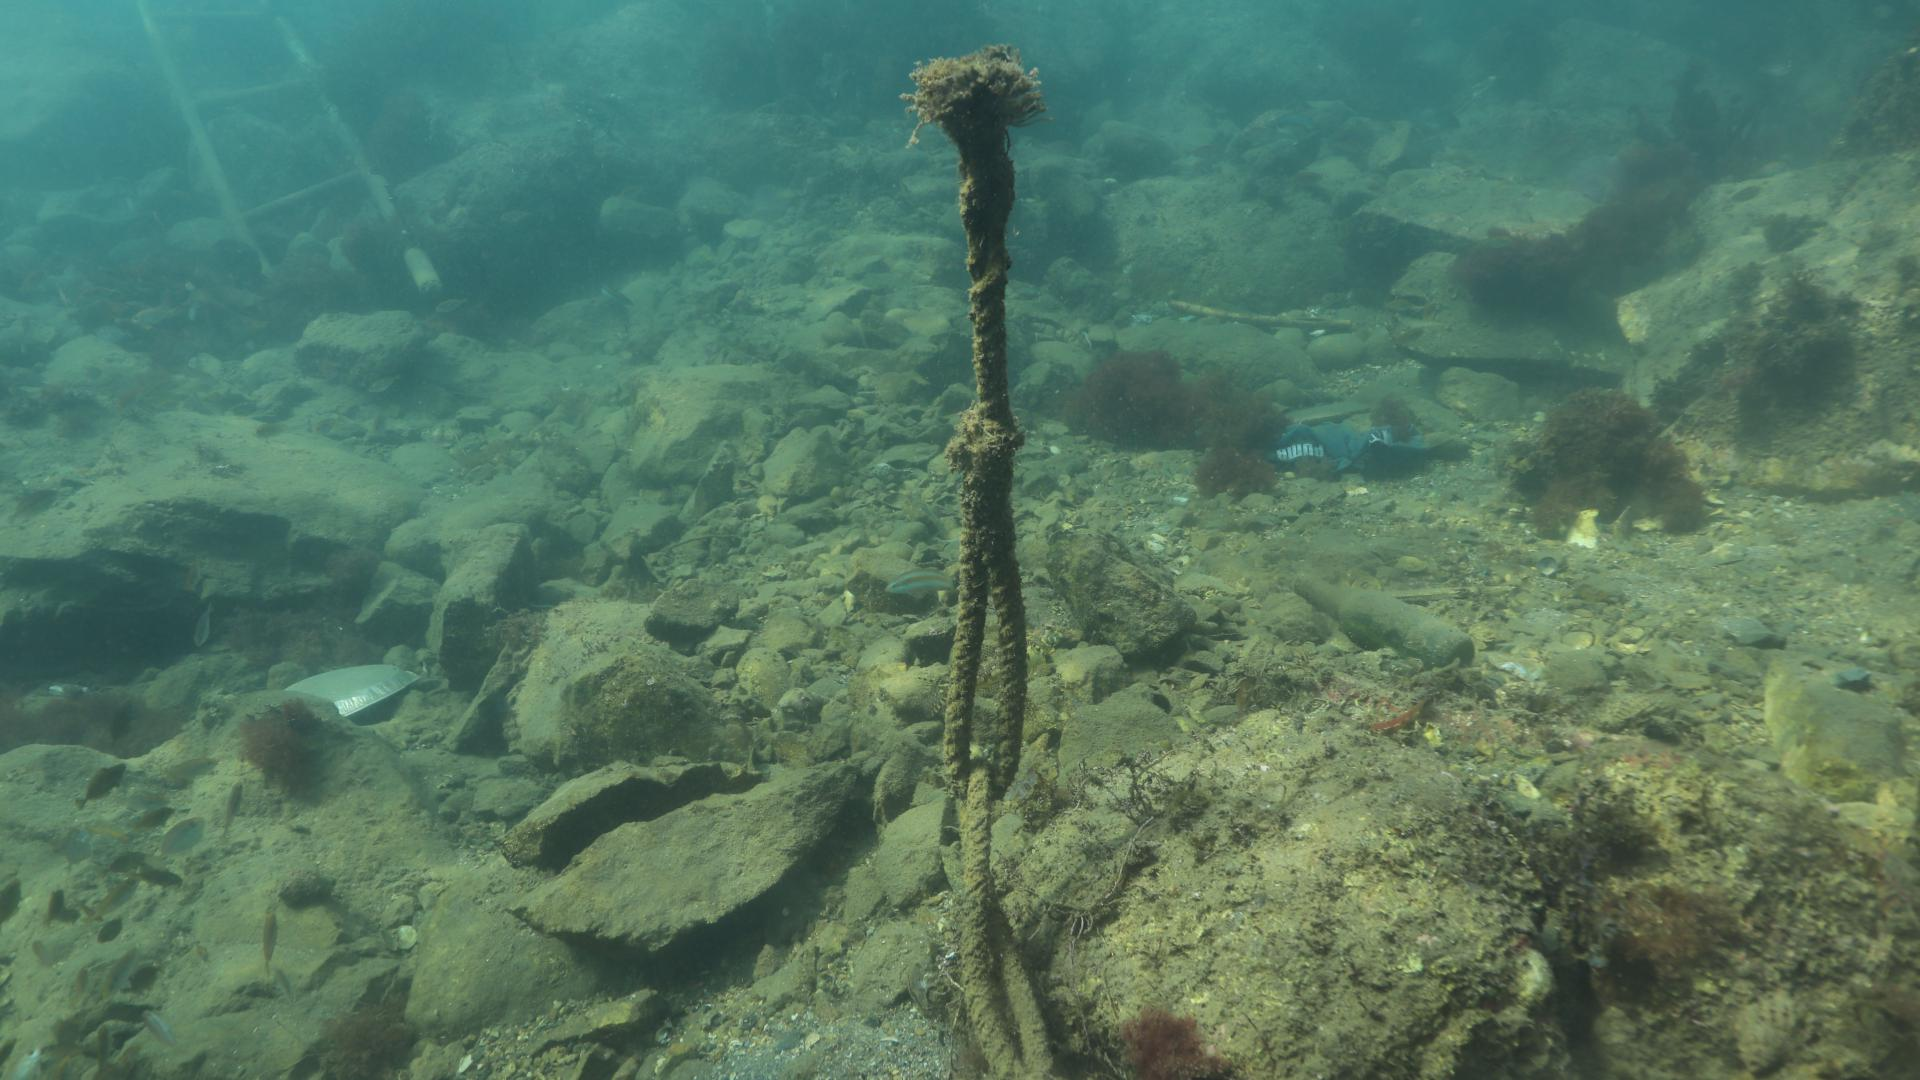bundle of ropes: (938, 160, 1052, 1080)
